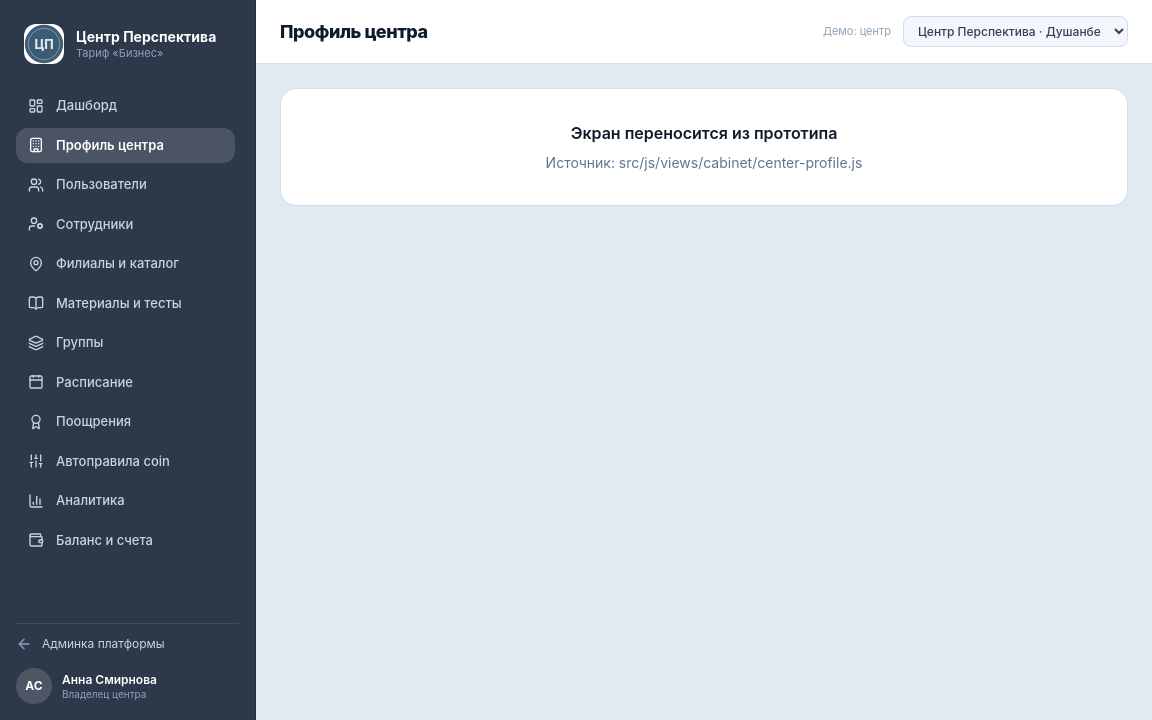
кабинет центра: центр и режим в адресе › переключатель центра меняет адрес и запоминается; несуществующий центр в адресе — последний выбранный
The width and height of the screenshot is (1152, 720).
Select "Дониш · Худжанд" in the dropdown named "Центр кабинета". click: [1016, 32]
box: 903,16 -> 1128,47
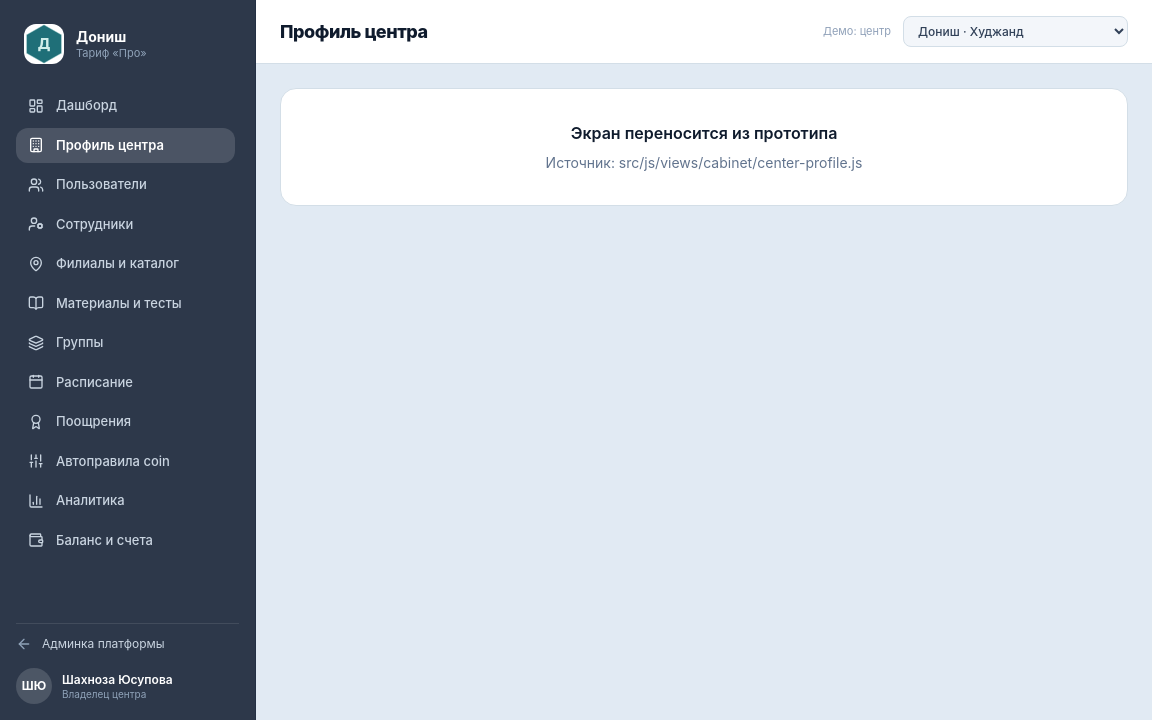
Check: the element that starts with "Дониш" is shown, box 76,28 -> 126,45
